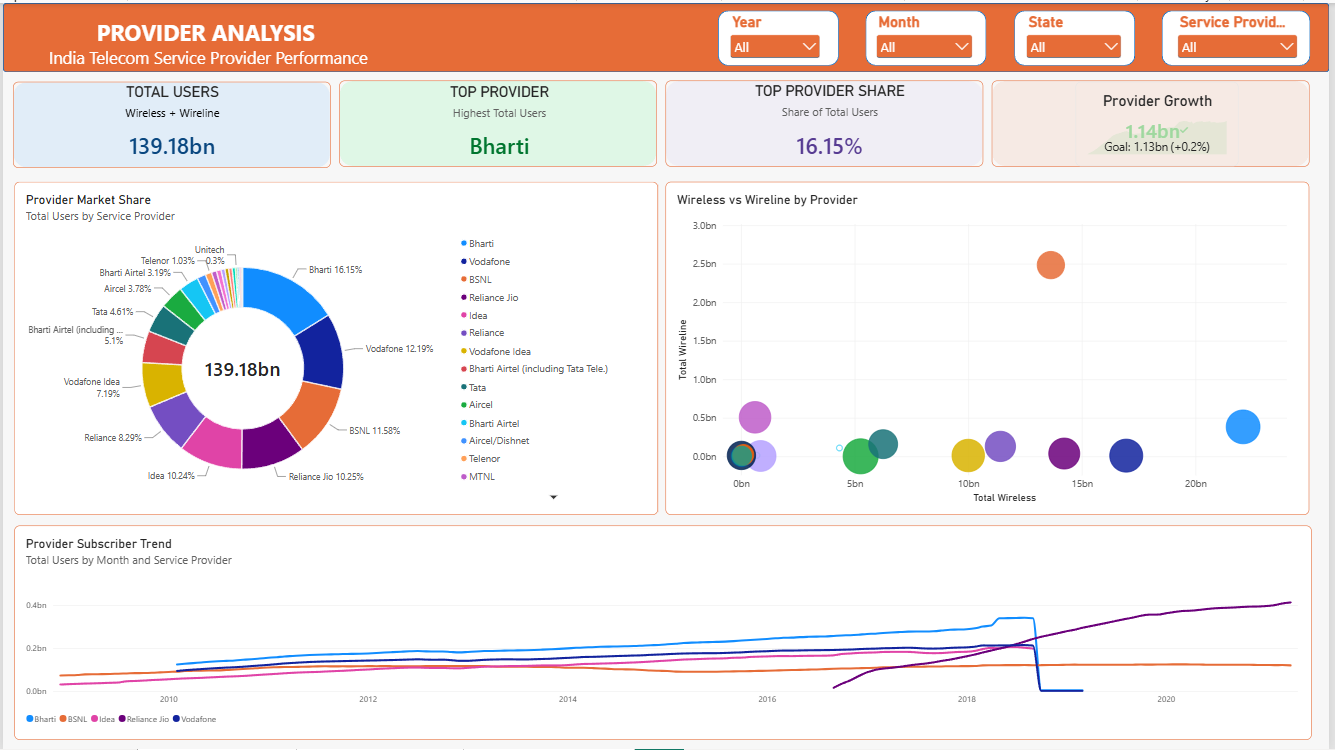

This screenshot's page, from the dashboard's own definition file:
{"tool":"powerbi","page":{"name":"Provider Analysis","canvas":[1920,1080],"ordinal":1},"visuals":[{"type":"group","id":"g1","title":"Group 1","box":[0,0,1920,120],"z":0},{"type":"shape","box":[0,0,1920,100],"z":0,"group":"g1"},{"type":"shape","box":[1035,10,175,80],"z":0,"group":"g3"},{"type":"shape","box":[1249.2,10,175,80],"z":0,"group":"g5"},{"type":"shape","box":[1463.3,10,175,80],"z":0,"group":"g9"},{"type":"shape","box":[1677.5,10,215,80],"z":0,"group":"g7"},{"type":"shape","box":[960,111.8,460,125],"z":0,"group":"g4"},{"type":"shape","box":[1432,112,460,125],"z":0,"group":"g2"},{"type":"shape","box":[487.5,112.9,460,125],"z":0,"group":"g6"},{"type":"shape","box":[15,113.9,460,125],"z":0,"group":"g8"},{"type":"slicer","fields":{"Values":["DateTable.Year"]},"box":[1048.3,13.3,140,66.7],"z":1000,"group":"g3"},{"type":"slicer","fields":{"Values":["telecom_data.State"]},"box":[1476.3,13.3,147.8,75.6],"z":1000,"group":"g9"},{"type":"slicer","fields":{"Values":["telecom_data.Service Provider"]},"box":[1694.7,13.3,183.3,74.4],"z":1000,"group":"g7"},{"type":"slicer","fields":{"Values":["DateTable.Month"]},"box":[1260.1,14.4,148.9,72.2],"z":1000,"group":"g5"},{"type":"textbox","box":[0,20,587.5,100],"z":1000,"group":"g1"},{"type":"group","id":"g2","title":"topstate","box":[1432,112,460,124],"z":1000},{"type":"cardVisual","title":"TOP PROVIDER SHARE","fields":{"Data":["M.Top Provider Share %"]},"box":[1066.2,114,262.5,121.2],"z":1000,"group":"g4"},{"type":"kpi","title":"Provider Growth","fields":{"Goal":["M.Previous Month Wireless"],"Indicator":["M.Total Wireless"],"TrendLine":["telecom_data.Month"]},"box":[1553.6,114.5,236.2,122.5],"z":1000,"group":"g2"},{"type":"cardVisual","title":"TOP PROVIDER","fields":{"Data":["M.Top Provider"]},"box":[571.3,115.7,297.5,120],"z":1000,"group":"g6"},{"type":"cardVisual","title":"TOTAL USERS","fields":{"Data":["M.Total Users"]},"box":[114.5,115.8,262.4,119.4],"z":1000,"group":"g8"},{"type":"group","id":"g3","title":"year slicer","box":[1035,10,175,80],"z":2000,"group":"g1"},{"type":"group","id":"g4","title":"VRL CARD","box":[960,111.8,460,125],"z":2000},{"type":"group","id":"g5","title":"month slicer","box":[1249.2,10,175,80],"z":3000,"group":"g1"},{"type":"group","id":"g6","title":"wireline card","box":[487.5,112.9,460,125],"z":3000},{"type":"group","id":"g7","title":"service slicer","box":[1677.5,10,215,80],"z":4000,"group":"g1"},{"type":"group","id":"g8","title":"wireless card","box":[15,113.9,460,125],"z":4000},{"type":"group","id":"g9","title":"state slicer","box":[1463.3,10,175,80],"z":5000,"group":"g1"},{"type":"donutChart","title":"Provider Market Share","fields":{"Category":["telecom_data.Service Provider"],"Y":["M.Total Users"]},"box":[16,258,932,482],"z":5000},{"type":"scatterChart","title":"Provider Performance in Wireless and Wireline ","fields":{"Series":["telecom_data.Service Provider"],"Size":["M.Average VLR %"],"X":["M.Total Wireless"],"Y":["M.Total Wireline"]},"box":[960,258,932,482],"z":6000},{"type":"lineChart","title":" Provider Subscriber Trend","fields":{"Category":["telecom_data.Month"],"Series":["telecom_data.Service Provider"],"Y":["M.Total Users"]},"box":[16,756,1878,310],"z":7000}]}

Visuals, with their boxes in screenshot pixels (x1, y1, x2, y2), scaled from the page's 1920x1080 canvas onto the 1335x750 screenshot:
"Group 1" group: box=[0, 0, 1334, 83]
shape: box=[0, 0, 1334, 69]
shape: box=[720, 7, 841, 62]
shape: box=[869, 7, 990, 62]
shape: box=[1017, 7, 1139, 62]
shape: box=[1166, 7, 1316, 62]
shape: box=[668, 78, 987, 164]
shape: box=[996, 78, 1316, 165]
shape: box=[339, 78, 659, 165]
shape: box=[10, 79, 330, 166]
slicer - DateTable.Year: box=[729, 9, 826, 56]
slicer - telecom_data.State: box=[1026, 9, 1129, 62]
slicer - telecom_data.Service Provider: box=[1178, 9, 1306, 61]
slicer - DateTable.Month: box=[876, 10, 980, 60]
textbox: box=[0, 14, 408, 83]
"topstate" group: box=[996, 78, 1316, 164]
"TOP PROVIDER SHARE" cardVisual: box=[741, 79, 924, 163]
"Provider Growth" kpi: box=[1080, 80, 1244, 165]
"TOP PROVIDER" cardVisual: box=[397, 80, 604, 164]
"TOTAL USERS" cardVisual: box=[80, 80, 262, 163]
"year slicer" group: box=[720, 7, 841, 62]
"VRL CARD" group: box=[668, 78, 987, 164]
"month slicer" group: box=[869, 7, 990, 62]
"wireline card" group: box=[339, 78, 659, 165]
"service slicer" group: box=[1166, 7, 1316, 62]
"wireless card" group: box=[10, 79, 330, 166]
"state slicer" group: box=[1017, 7, 1139, 62]
"Provider Market Share" donutChart: box=[11, 179, 659, 514]
"Provider Performance in Wireless and Wireline " scatterChart: box=[668, 179, 1316, 514]
" Provider Subscriber Trend" lineChart: box=[11, 525, 1317, 740]
